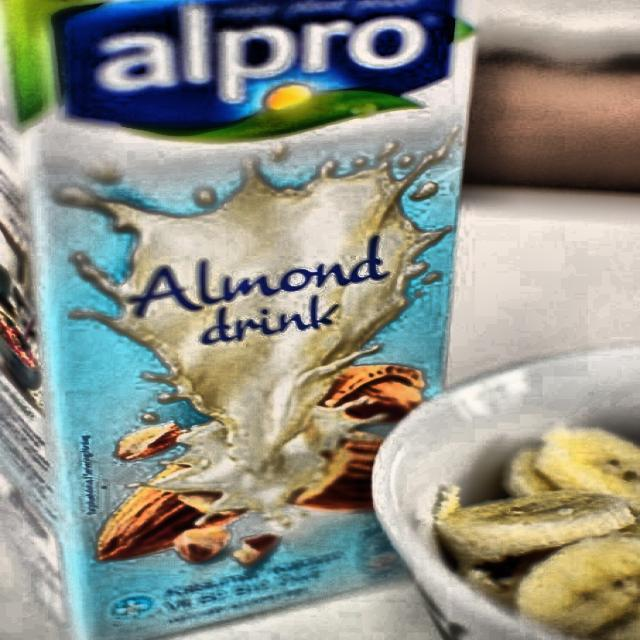cardboard: (1, 0, 479, 639)
